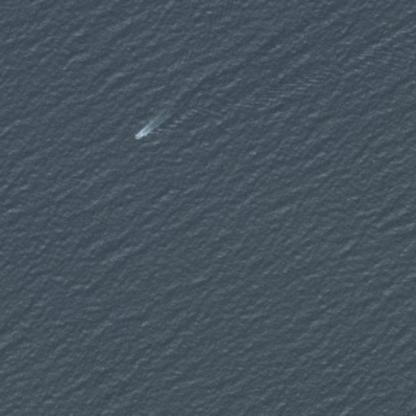ship: (134, 125, 147, 140)
